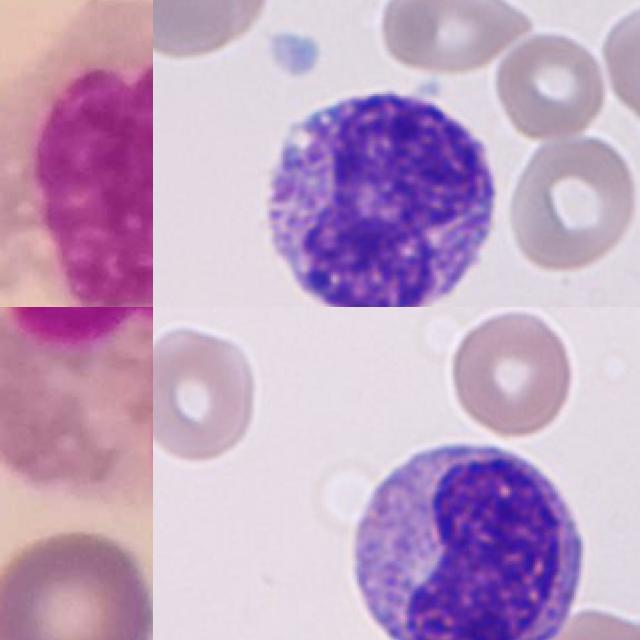Eosinophil: (0, 307, 153, 503)
Lymphocyte: (244, 76, 507, 307), (339, 431, 597, 640)
Monocyte: (0, 0, 153, 307)
Platelets: (262, 25, 326, 82)
RBC: (503, 127, 640, 275), (446, 307, 576, 440), (153, 319, 261, 468), (372, 0, 539, 80), (493, 28, 608, 142), (596, 0, 640, 136), (153, 0, 236, 64), (167, 0, 277, 44), (529, 605, 640, 640)
